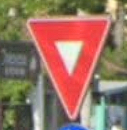cedeaza: (25, 16, 115, 123)
